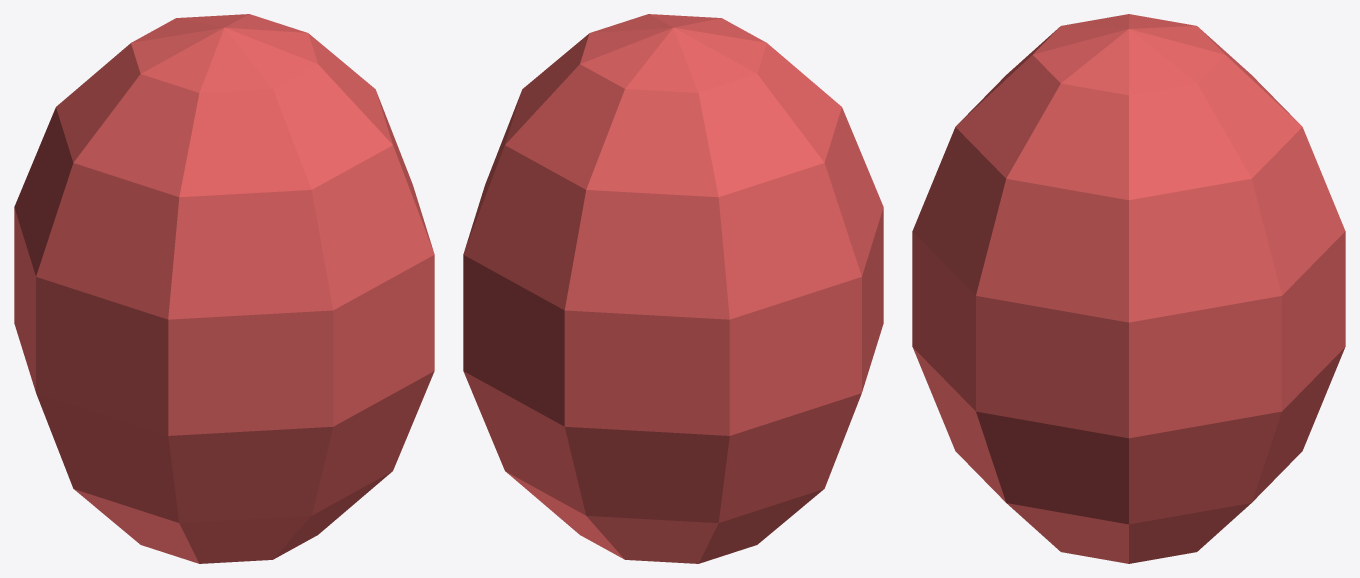
The model's file is Enemy.fbx.
3 renders of one model, left to right at view 1: azimuth 30°, elevation 25°; view 2: azimuth 150°, elevation 25°; view 3: azimuth 270°, elevation 25°, orthographic.
Parts seen in each view (by area): view 1: pSphere1; view 2: pSphere1; view 3: pSphere1.
Part boxes in pixels (x1=…): pSphere1: x1=14, y1=14, x2=434, y2=563; pSphere1: x1=463, y1=14, x2=883, y2=563; pSphere1: x1=912, y1=14, x2=1345, y2=563.
Size of the model in its own units: 1.61 by 2.13 by 1.61.
